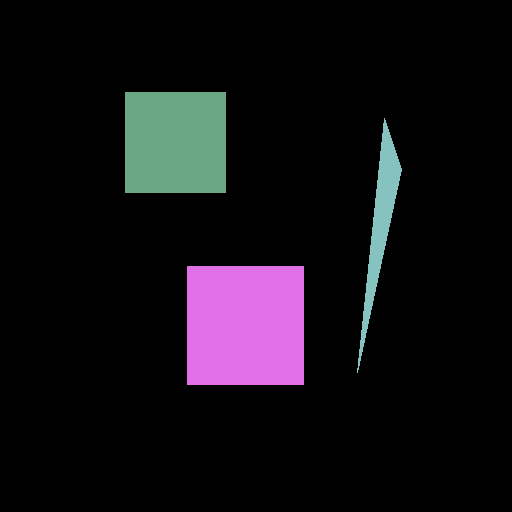square: (187, 266, 303, 384), (125, 92, 225, 192)
triangle: (357, 118, 401, 372)
